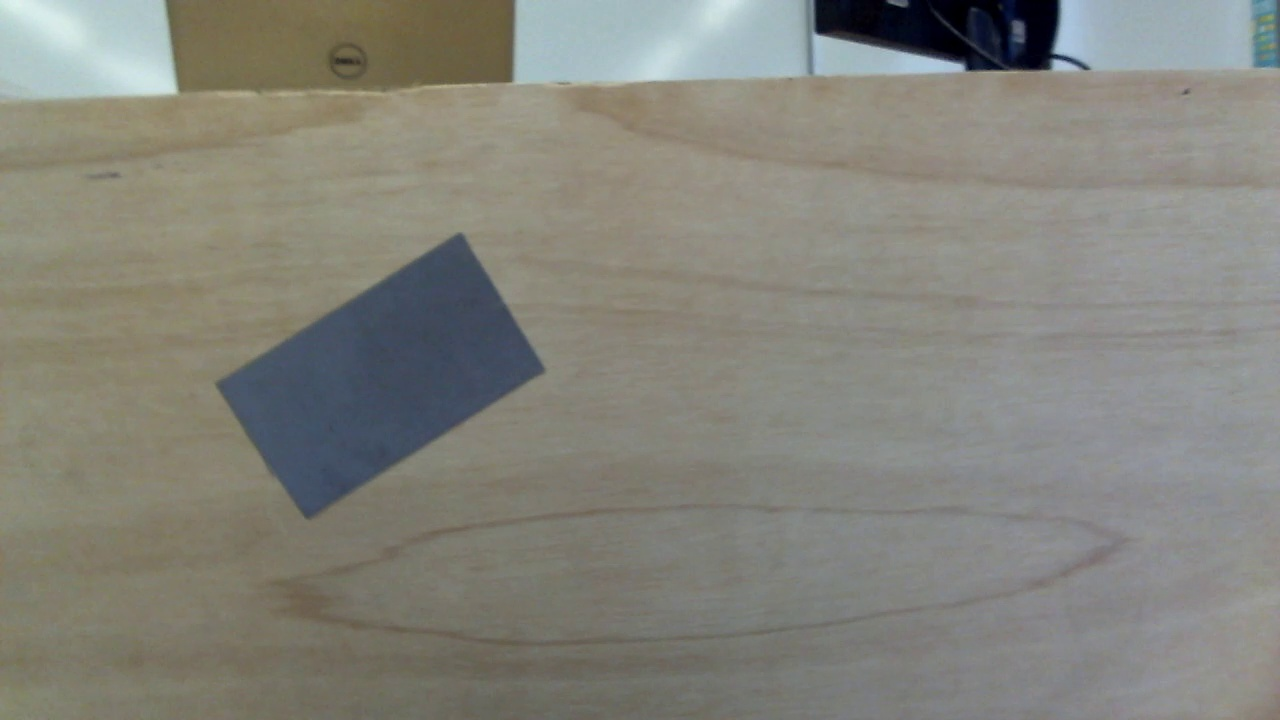Tape: (209, 232, 547, 528)
